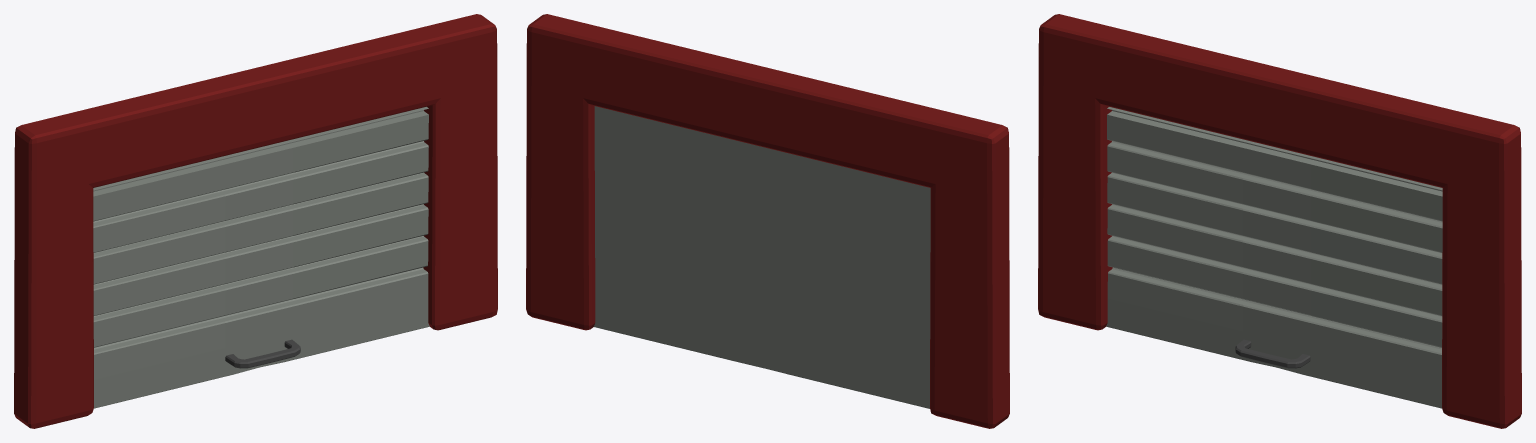
The model's file is Bay Door Closed.fbx.
3 views of the same model, side by side, from view 1: azimuth 30°, elevation 25°; view 2: azimuth 150°, elevation 25°; view 3: azimuth 330°, elevation 25° (orthographic).
Visible parts, largest first — view 1: Delivery Bay Frame.001; view 2: Delivery Bay Frame.001; view 3: Delivery Bay Frame.001.
Part boxes in pixels (x1,y1,x2,y2): Delivery Bay Frame.001: [14, 14, 497, 428]; Delivery Bay Frame.001: [526, 14, 1009, 428]; Delivery Bay Frame.001: [1038, 14, 1521, 428].
Bounding box in the file's own units: 3541 × 2113 × 325.
